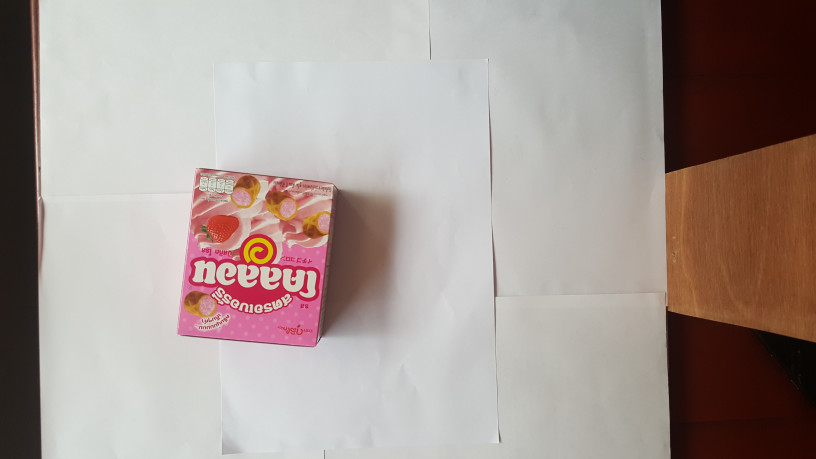collon-strawberry: (174, 166, 341, 351)
